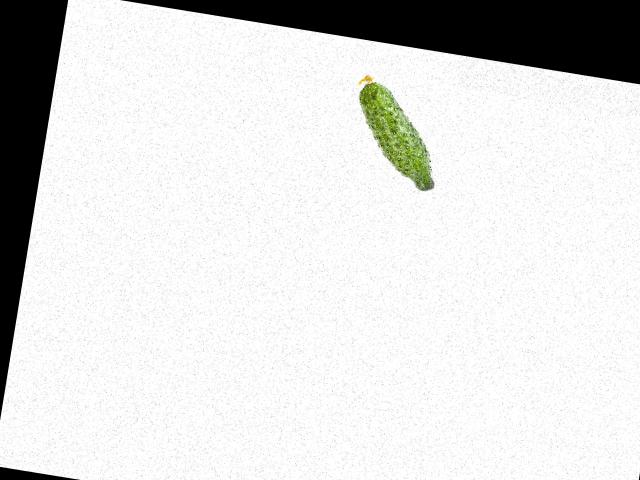cucumber: (343, 73, 450, 191)
